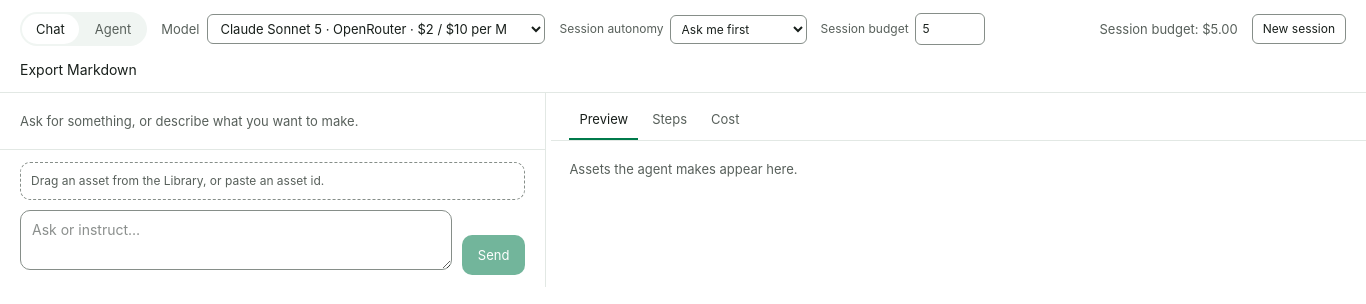
Test: ChatScreen (F-CHT-04) › opens on Preview and switches the Workspace tab when one is chosen
expect the panel with class "chat-workspace-body" shows "Assets the agent makes": met, box [569, 161, 798, 177]
Click the tab "Steps" at (670, 122), box [642, 103, 697, 140]
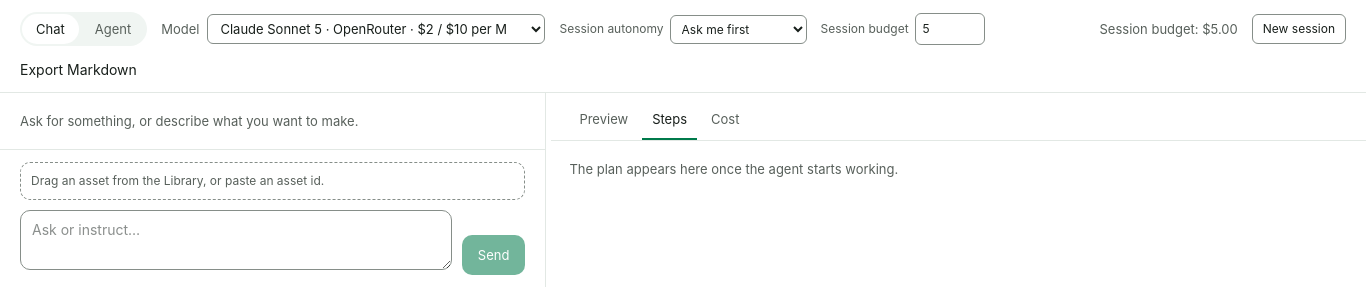
expect the panel with class "chat-workspace-body" shows "The plan appears here": met, box [569, 161, 898, 177]
